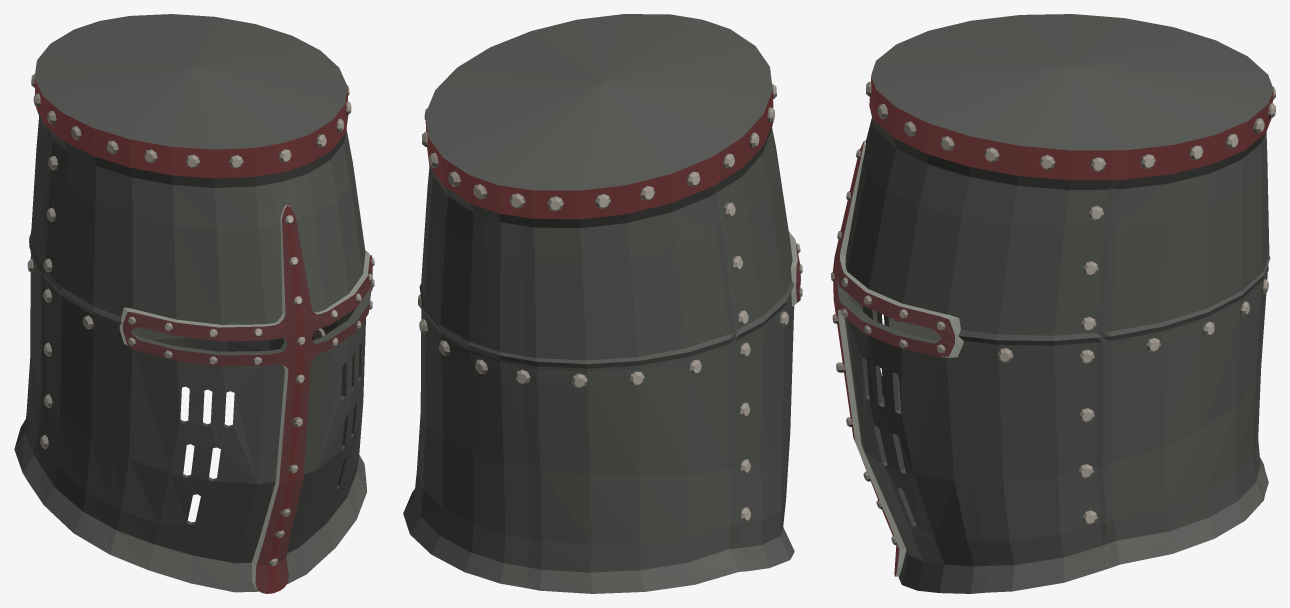
File: bucketHelmetKnight.glb
3 renders of one model, left to right at view 1: azimuth 30°, elevation 25°; view 2: azimuth 150°, elevation 25°; view 3: azimuth 270°, elevation 25°, orthographic. The views are drawn at different scales.
Parts seen in each view (by area): view 1: bucketHelmetKnight; view 2: bucketHelmetKnight; view 3: bucketHelmetKnight.
Boxes of the visible parts, left/top/right/bottom form: bucketHelmetKnight: left=14, top=14, right=374, bottom=593; bucketHelmetKnight: left=403, top=14, right=802, bottom=593; bucketHelmetKnight: left=831, top=14, right=1275, bottom=593.
Bounding box in the file's own units: 0.2952 × 0.4367 × 0.3461.
